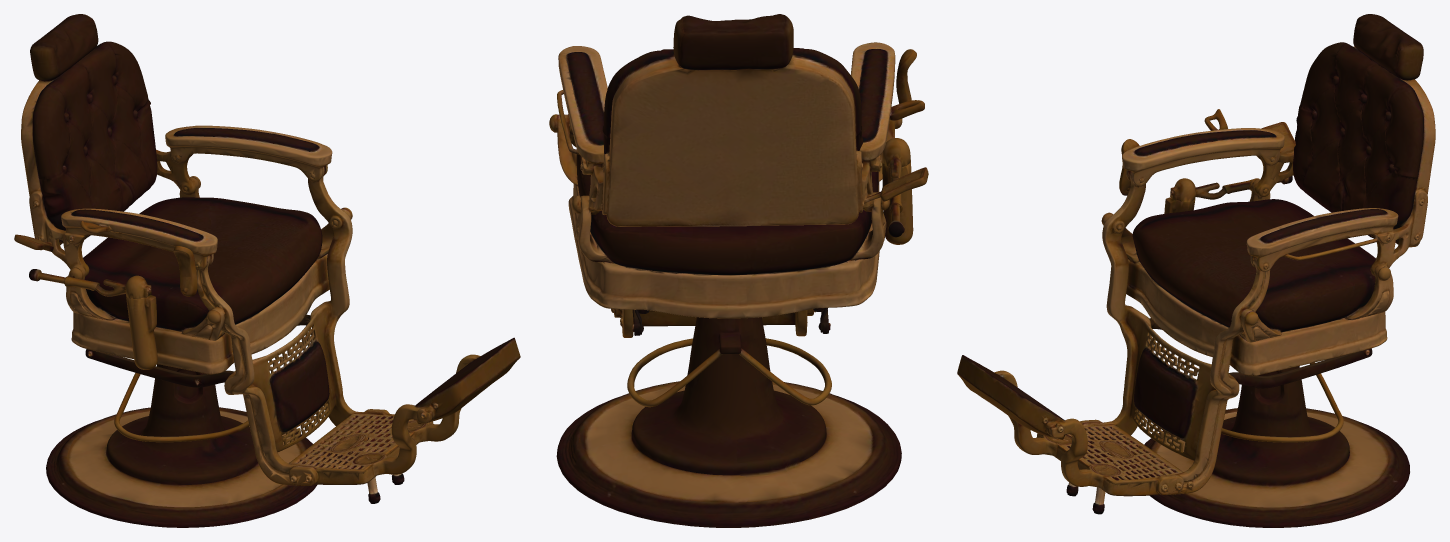
3 views of the same model, side by side, from view 1: azimuth 30°, elevation 25°; view 2: azimuth 150°, elevation 25°; view 3: azimuth 270°, elevation 25° (orthographic). The views are drawn at different scales.
Visible parts, largest first — view 1: tripo_node_b3f9533c-2db1-48c3-82ba-8489292b4572; view 2: tripo_node_b3f9533c-2db1-48c3-82ba-8489292b4572; view 3: tripo_node_b3f9533c-2db1-48c3-82ba-8489292b4572.
Part boxes in pixels (x1,y1,x2,y2): tripo_node_b3f9533c-2db1-48c3-82ba-8489292b4572: [14, 14, 520, 527]; tripo_node_b3f9533c-2db1-48c3-82ba-8489292b4572: [549, 14, 928, 527]; tripo_node_b3f9533c-2db1-48c3-82ba-8489292b4572: [957, 14, 1435, 527].
Size of the model in its own units: 0.8382 by 0.8858 by 0.9339.
Materials: 1 (1 with a texture image).
